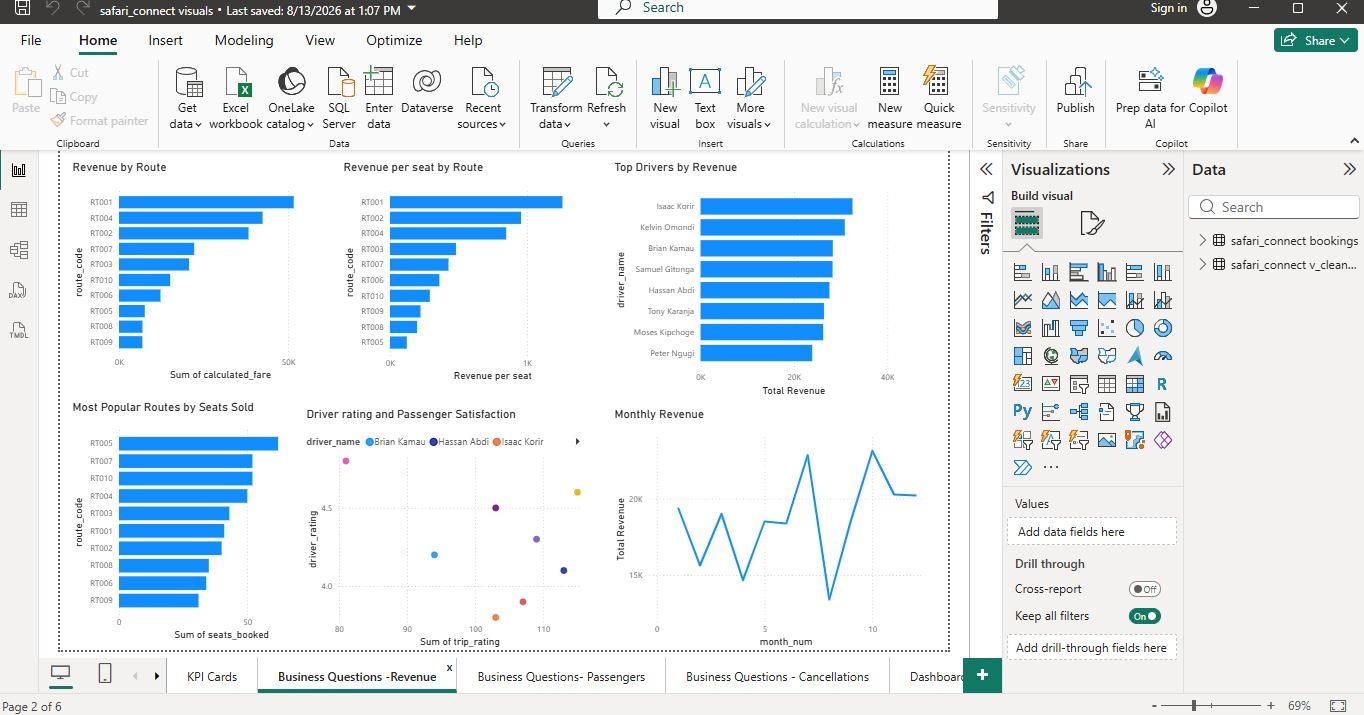

The page's visual inventory and layout, read from the dashboard file:
{"tool":"powerbi","page":{"name":"Business Questions -Revenue","canvas":[1280,720],"ordinal":1},"visuals":[{"type":"clusteredBarChart","title":"Revenue by Route","fields":{"Category":["safari_connect v_clean_trips.route_code"],"Y":["Sum(safari_connect v_clean_trips.calculated_fare)"]},"box":[13.4,15.1,379.6,322.5],"z":0},{"type":"clusteredBarChart","title":"Most Popular Routes by Seats Sold","fields":{"Category":["safari_connect v_clean_trips.route_code"],"Y":["Sum(safari_connect v_clean_trips.seats_booked)"]},"box":[13.4,359.5,379.6,351.1],"z":1000},{"type":"clusteredBarChart","title":"Revenue per seat by Route","fields":{"Category":["safari_connect v_clean_trips.route_code"],"Y":["safari_connect v_clean_trips.Revenue per seat"]},"box":[403,15,380,323],"z":2000},{"type":"clusteredBarChart","title":"Top Drivers by Revenue","fields":{"Category":["safari_connect v_clean_trips.driver_name"],"Y":["safari_connect v_clean_trips.Total Revenue"]},"box":[792.9,15.1,413.2,344.4],"z":3000},{"type":"scatterChart","title":"Driver rating and Passenger Satisfaction","fields":{"X":["Sum(safari_connect v_clean_trips.trip_rating)"],"Y":["safari_connect v_clean_trips.driver_rating"],"Series":["safari_connect v_clean_trips.driver_name"]},"box":[349.4,369.6,414.9,351.1],"z":4000},{"type":"lineChart","title":"Monthly Revenue","fields":{"Y":["safari_connect v_clean_trips.Total Revenue"],"Category":["safari_connect v_clean_trips.month_num"]},"box":[792.9,369.6,453.5,351.1],"z":5000}]}

Visuals, with their boxes on the page's 1280x720 design canvas (x1, y1, x2, y2). These are canvas units, not pixel positions in the 1364x715 screenshot, which may show the page scaled, cropped or inside an application window:
"Revenue by Route" clusteredBarChart: locate(13, 15, 393, 338)
"Most Popular Routes by Seats Sold" clusteredBarChart: locate(13, 360, 393, 711)
"Revenue per seat by Route" clusteredBarChart: locate(403, 15, 783, 338)
"Top Drivers by Revenue" clusteredBarChart: locate(793, 15, 1206, 360)
"Driver rating and Passenger Satisfaction" scatterChart: locate(349, 370, 764, 721)
"Monthly Revenue" lineChart: locate(793, 370, 1246, 721)
